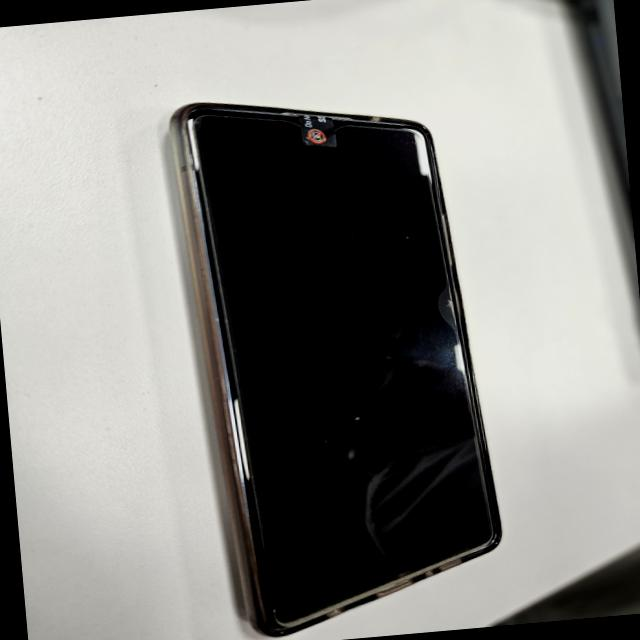phone: (157, 70, 509, 640)
sticker: (292, 102, 340, 156)
